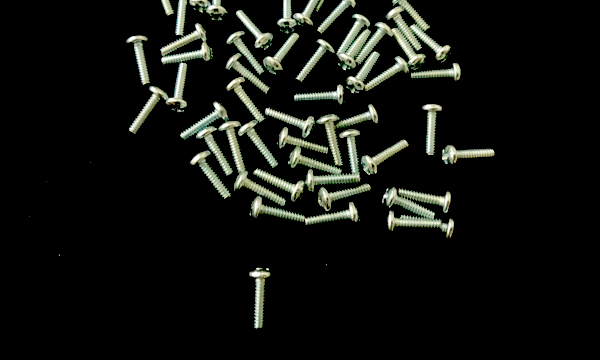shortscrew: (189, 151, 232, 201), (128, 86, 170, 135), (180, 101, 230, 141), (252, 168, 306, 204), (296, 38, 337, 85), (234, 172, 287, 208), (196, 127, 234, 177), (226, 77, 266, 124), (382, 185, 437, 219), (360, 140, 410, 177), (226, 30, 266, 76), (225, 54, 271, 94), (235, 9, 275, 52), (410, 24, 453, 64), (385, 7, 423, 52), (248, 267, 275, 330), (355, 21, 392, 66), (249, 197, 306, 226), (159, 23, 209, 56), (264, 108, 317, 139), (385, 210, 443, 238), (318, 183, 372, 213), (288, 147, 343, 176), (316, 113, 345, 168), (400, 188, 455, 217), (337, 13, 372, 58), (277, 127, 329, 157), (305, 202, 362, 229), (337, 29, 372, 72), (306, 168, 362, 194), (317, 0, 357, 35), (125, 35, 151, 86), (161, 42, 214, 67), (336, 105, 382, 132), (391, 0, 431, 31), (165, 63, 190, 112), (338, 130, 364, 177), (294, 84, 347, 107), (442, 145, 495, 167), (411, 62, 461, 85), (421, 103, 441, 158), (292, 0, 328, 29), (173, 0, 195, 38), (277, 0, 297, 35), (145, 0, 176, 18), (206, 0, 228, 22), (189, 0, 214, 14)
